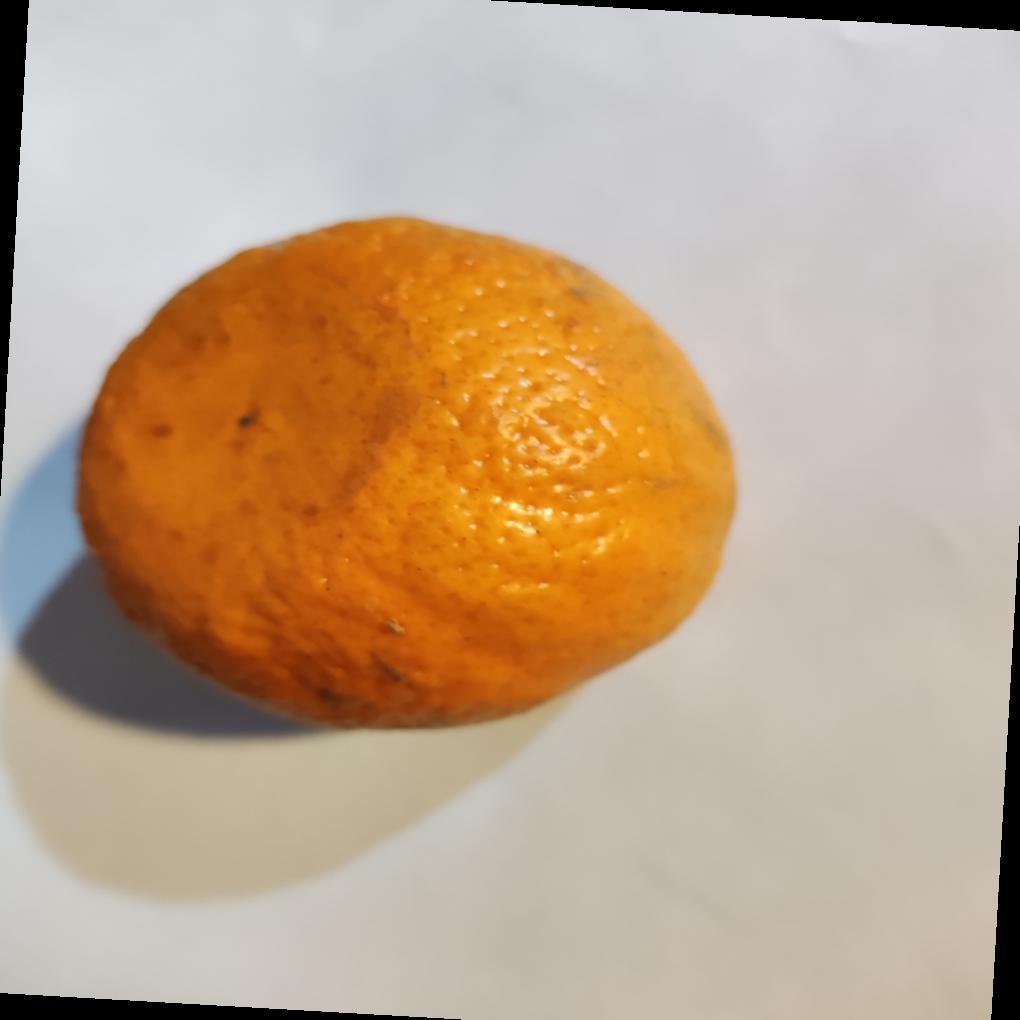FreshGuava: (75, 216, 738, 735)
